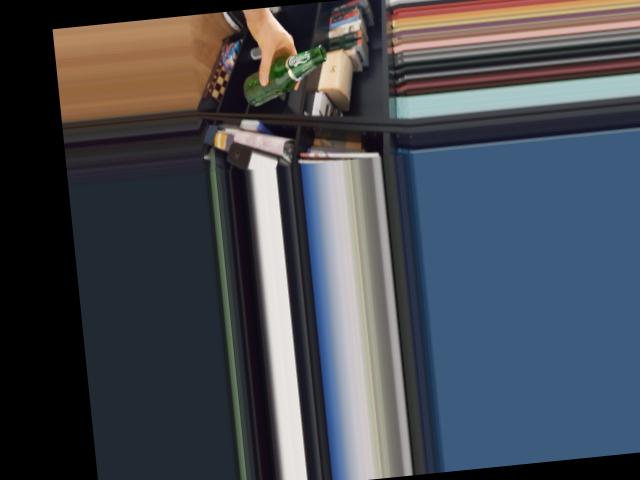beer: (239, 45, 330, 108)
